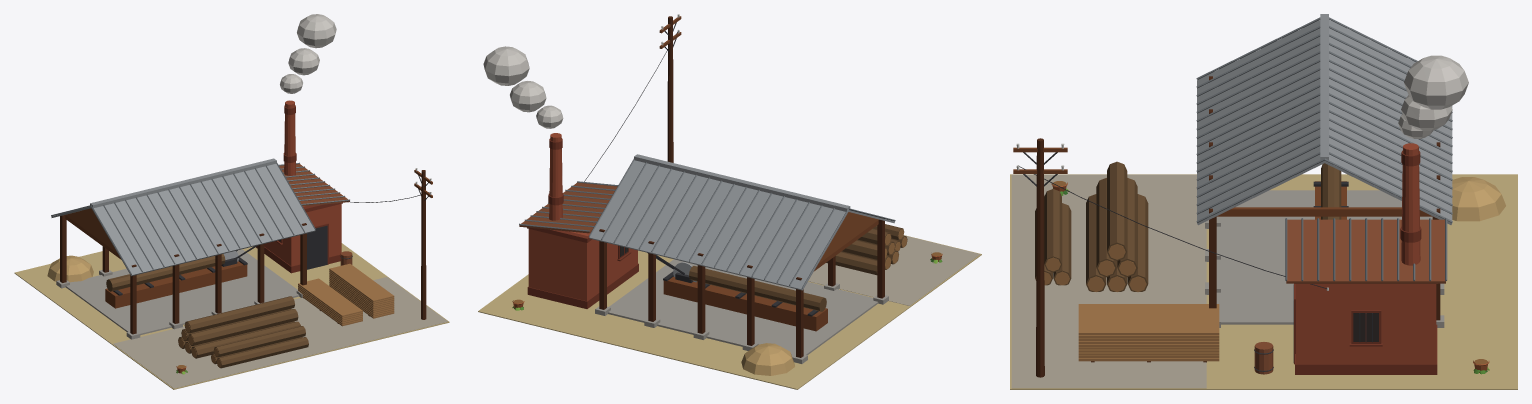
Rendered from factory_2.glb.
The picture shows the model from 3 angles, left to right: view 1: azimuth 30°, elevation 25°; view 2: azimuth 150°, elevation 25°; view 3: azimuth 270°, elevation 25°; orthographic projection. The views are drawn at different scales.
Parts seen in each view (by area): view 1: body; view 2: body; view 3: body, windows.
Boxes of the visible parts, x1,y1,x2,y2 form: body: (14,14,449,389); body: (478,14,981,389); body: (1010,14,1517,389); windows: (1353,313,1378,341).
Bounding box in the file's own units: 16.92 × 11.78 × 15.9.
